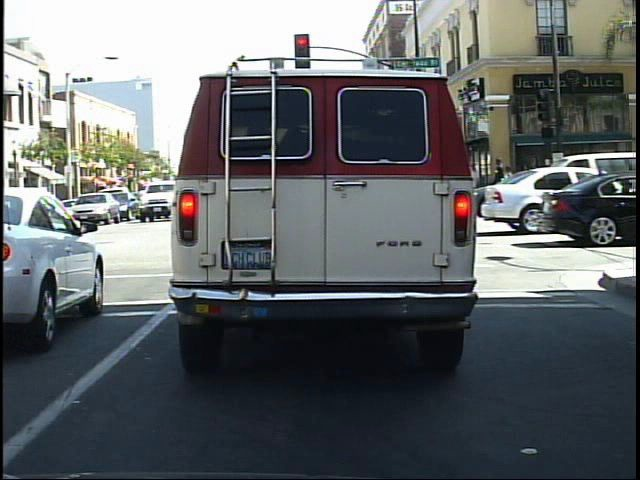person: (536, 154, 564, 217), (516, 157, 541, 212), (490, 156, 509, 213), (500, 162, 519, 212)
